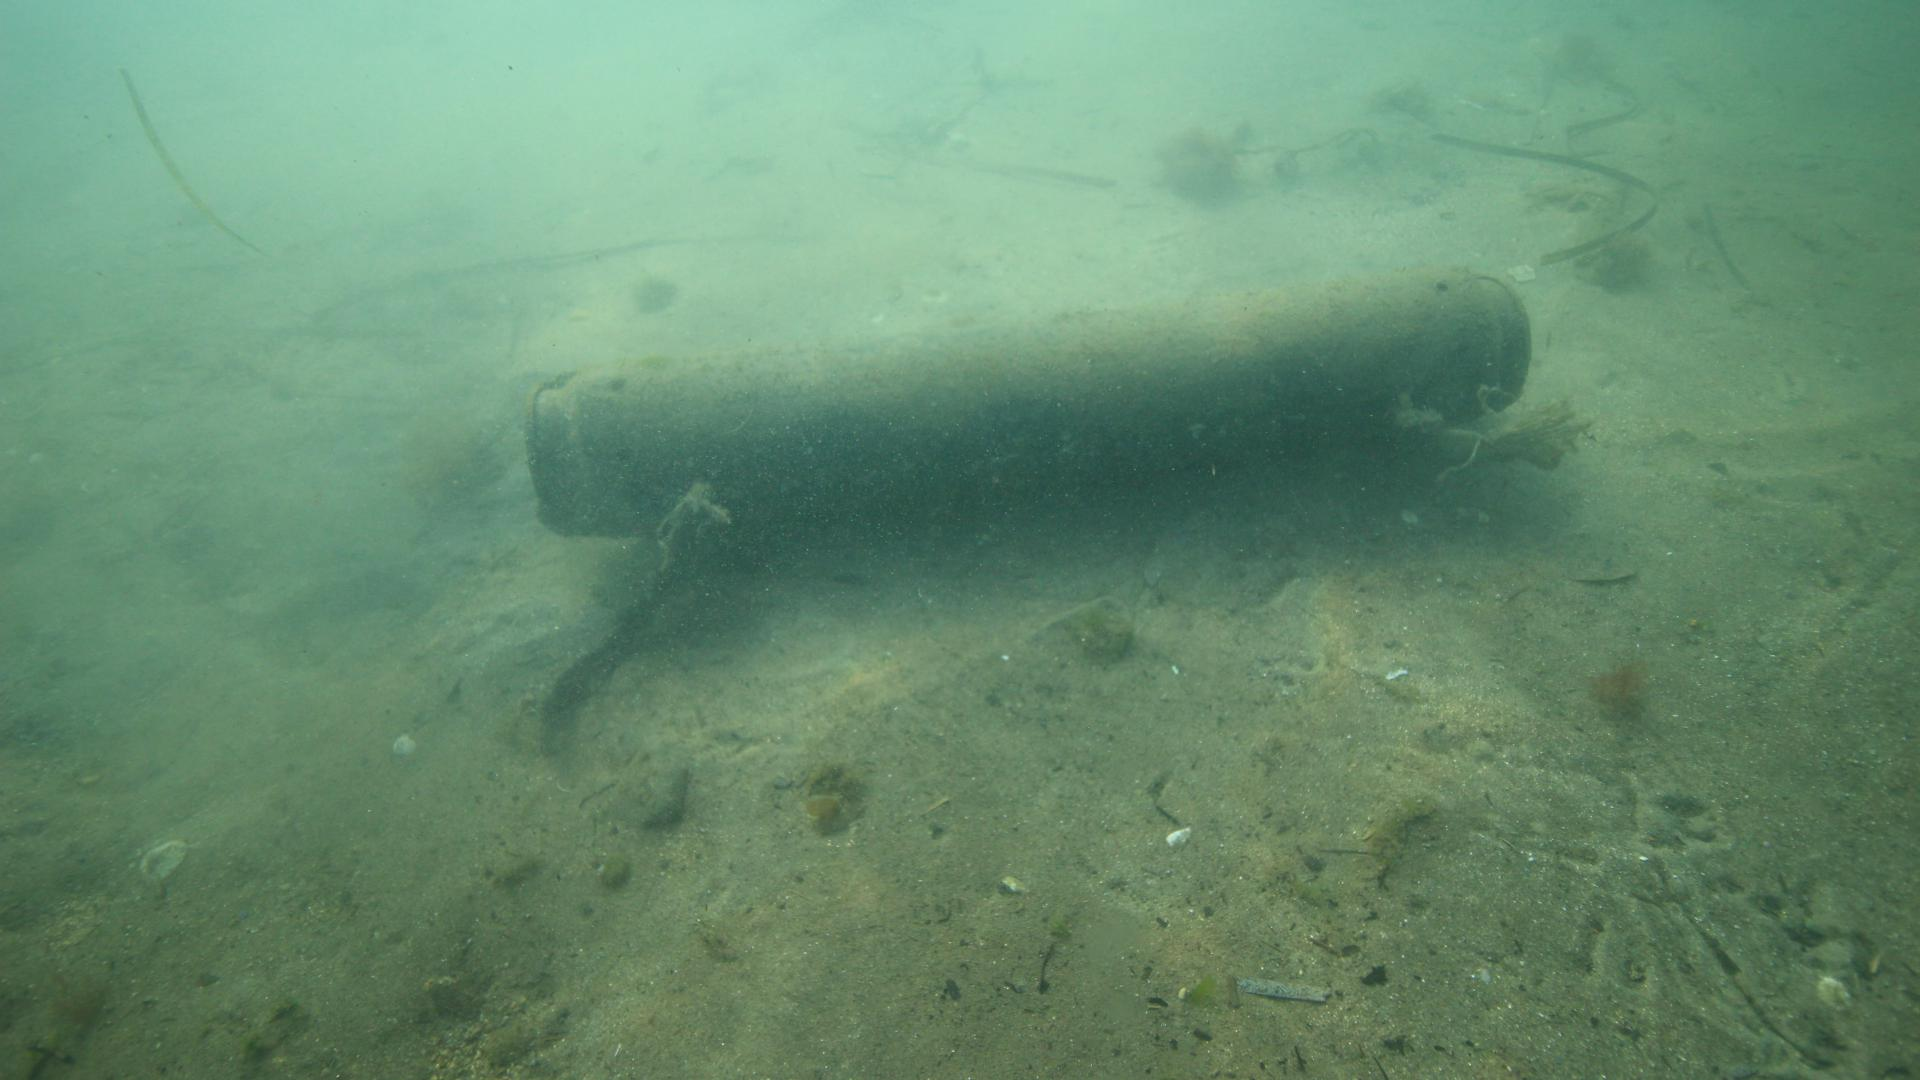eel fish trap: (516, 260, 1534, 549)
